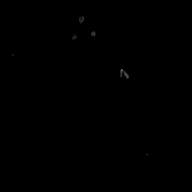v: (69, 12, 95, 41)
